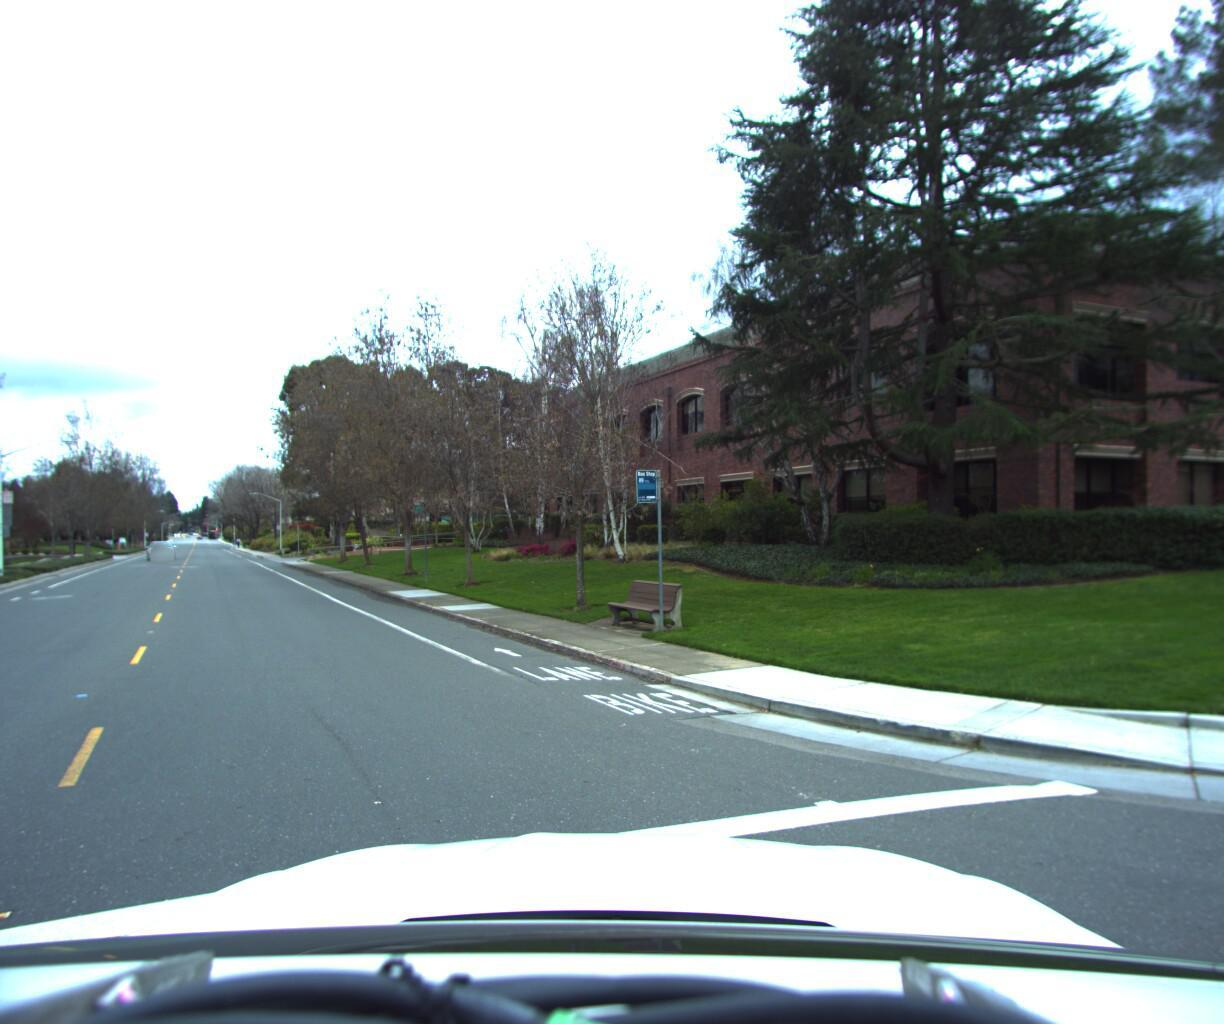car: (148, 543, 179, 563)
